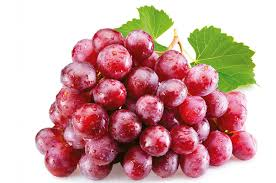Red Grapes: (28, 20, 269, 183)
